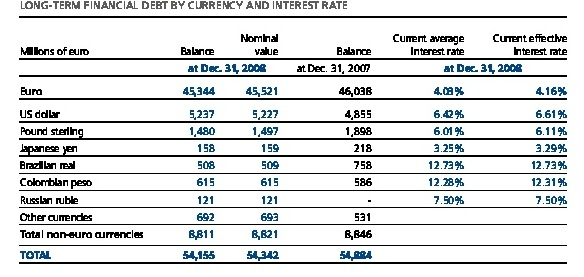table: (0, 0, 584, 277)
